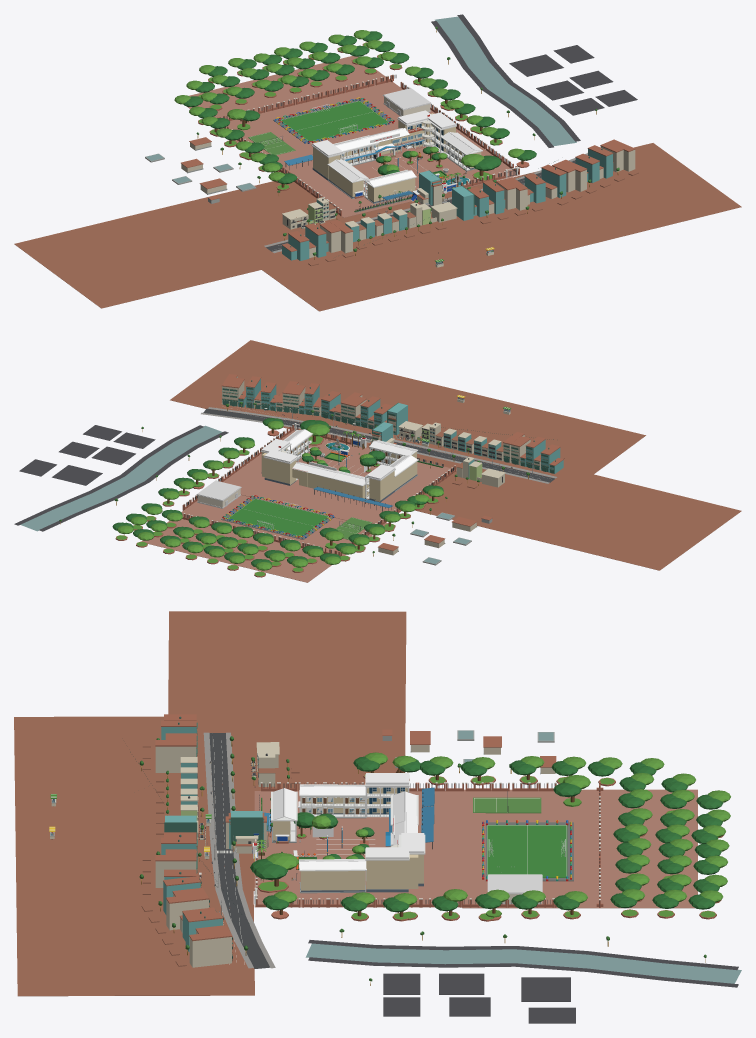
File: Nguyenkhuyen1999.draco.glb
The picture shows the model from 3 angles, top to bottom: view 1: azimuth 30°, elevation 25°; view 2: azimuth 150°, elevation 25°; view 3: azimuth 270°, elevation 25°; orthographic projection. The views are drawn at different scales.
Parts seen in each view (by area): view 1: Street_ContextGround, Street_ContextGround.001, SanGachChinh.002, SanGachChinh.001, Kenh_Chanh_Diec_Water, Mat_san_co_nhan_tao, Batch_Fence_02_Cong_Truong_Chi_Tiet_GachThe, Kenh_Chanh_Diec_BankEast, Kenh_Chanh_Diec_BankWest, FieldPlot_04, EFA_Style_FourStorey, Nha_Hieu_Bo_ThanNha (+6 smaller); view 2: Street_ContextGround.001, Street_ContextGround, SanGachChinh.001, SanGachChinh.002, Kenh_Chanh_Diec_Water, Mat_san_co_nhan_tao, Street_MainRoad, Batch_Fence_02_Cong_Truong_Chi_Tiet_GachThe, Kenh_Chanh_Diec_BankEast, Kenh_Chanh_Diec_BankWest, Sidewalk_SchoolNorth.001, Canh3Tang_Bac_Than3T (+10 smaller); view 3: Street_ContextGround, Street_ContextGround.001, SanGachChinh.001, SanGachChinh.002, Kenh_Chanh_Diec_Water, Mat_san_co_nhan_tao, Street_MainRoad, Batch_Fence_02_Cong_Truong_Chi_Tiet_GachThe, Kenh_Chanh_Diec_BankEast, Kenh_Chanh_Diec_BankWest, Terrace_46, Sidewalk_SchoolNorth.001 (+17 smaller).
Boxes of the visible parts, x1=… form: Street_ContextGround: x1=231, y1=143, x2=741, y2=311; Street_ContextGround.001: x1=14, y1=181, x2=482, y2=308; SanGachChinh.002: x1=187, y1=56, x2=433, y2=153; SanGachChinh.001: x1=264, y1=112, x2=519, y2=217; Kenh_Chanh_Diec_Water: x1=435, y1=16, x2=576, y2=145; Mat_san_co_nhan_tao: x1=280, y1=101, x2=388, y2=141; Batch_Fence_02_Cong_Truong_Chi_Tiet_GachThe: x1=217, y1=75, x2=519, y2=215; Kenh_Chanh_Diec_BankEast: x1=457, y1=14, x2=580, y2=141; Kenh_Chanh_Diec_BankWest: x1=431, y1=21, x2=553, y2=147; FieldPlot_04: x1=509, y1=54, x2=563, y2=76; EFA_Style_FourStorey: x1=452, y1=185, x2=474, y2=220; Nha_Hieu_Bo_ThanNha: x1=367, y1=178, x2=415, y2=201; Street_ContextGround.001: x1=325, y1=423, x2=741, y2=570; Street_ContextGround: x1=170, y1=340, x2=645, y2=474; SanGachChinh.001: x1=223, y1=430, x2=456, y2=523; SanGachChinh.002: x1=141, y1=495, x2=388, y2=582; Kenh_Chanh_Diec_Water: x1=20, y1=425, x2=222, y2=531; Mat_san_co_nhan_tao: x1=228, y1=498, x2=328, y2=536; Street_MainRoad: x1=203, y1=408, x2=554, y2=482; Batch_Fence_02_Cong_Truong_Chi_Tiet_GachThe: x1=182, y1=425, x2=455, y2=556; Kenh_Chanh_Diec_BankEast: x1=14, y1=425, x2=203, y2=525; Kenh_Chanh_Diec_BankWest: x1=39, y1=431, x2=228, y2=531; Sidewalk_SchoolNorth.001: x1=208, y1=407, x2=556, y2=478; Canh3Tang_Bac_Than3T: x1=264, y1=458, x2=296, y2=484; Street_ContextGround: x1=14, y1=716, x2=254, y2=996; Street_ContextGround.001: x1=167, y1=611, x2=406, y2=890; SanGachChinh.001: x1=254, y1=791, x2=485, y2=907; SanGachChinh.002: x1=462, y1=789, x2=697, y2=908; Kenh_Chanh_Diec_Water: x1=305, y1=943, x2=741, y2=983; Mat_san_co_nhan_tao: x1=487, y1=825, x2=567, y2=877; Street_MainRoad: x1=209, y1=733, x2=269, y2=968; Batch_Fence_02_Cong_Truong_Chi_Tiet_GachThe: x1=256, y1=781, x2=603, y2=908; Kenh_Chanh_Diec_BankEast: x1=308, y1=957, x2=738, y2=987; Kenh_Chanh_Diec_BankWest: x1=308, y1=940, x2=738, y2=970; Terrace_46: x1=189, y1=930, x2=233, y2=967; Sidewalk_SchoolNorth.001: x1=203, y1=732, x2=253, y2=968.
Size of the model in its own units: 473 by 24.3 by 353.
Materials: 106 (1 with a texture image).
